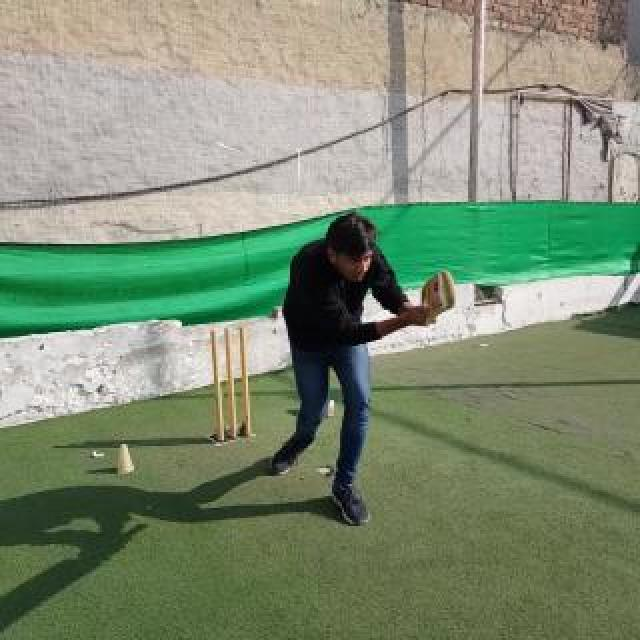bat: (420, 270, 458, 328)
